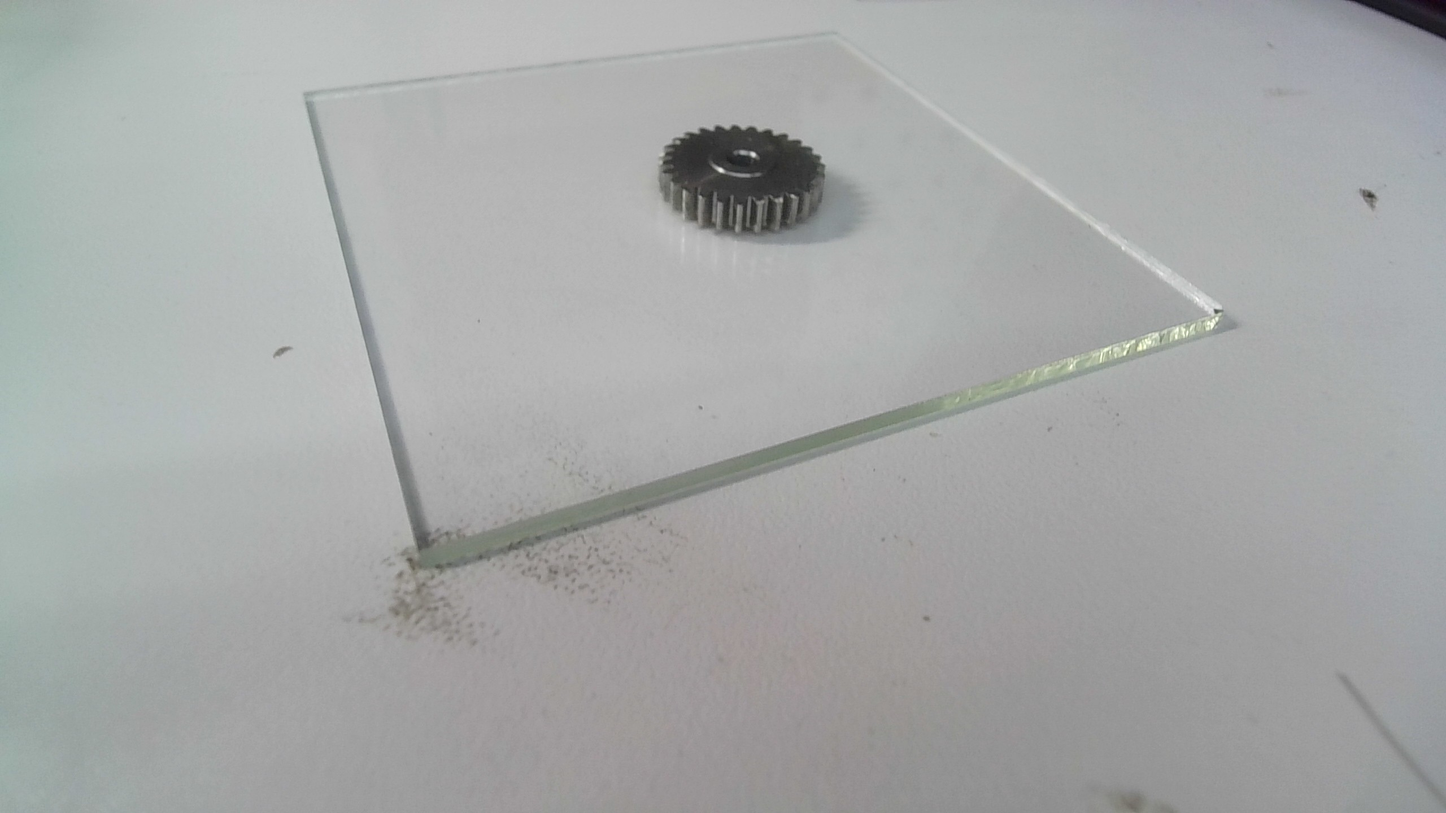gear: (652, 119, 828, 242)
